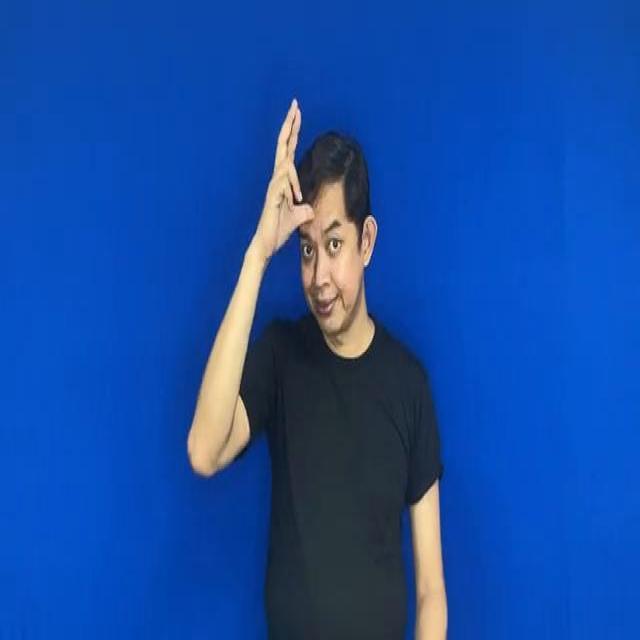chicken: (256, 95, 324, 241)
